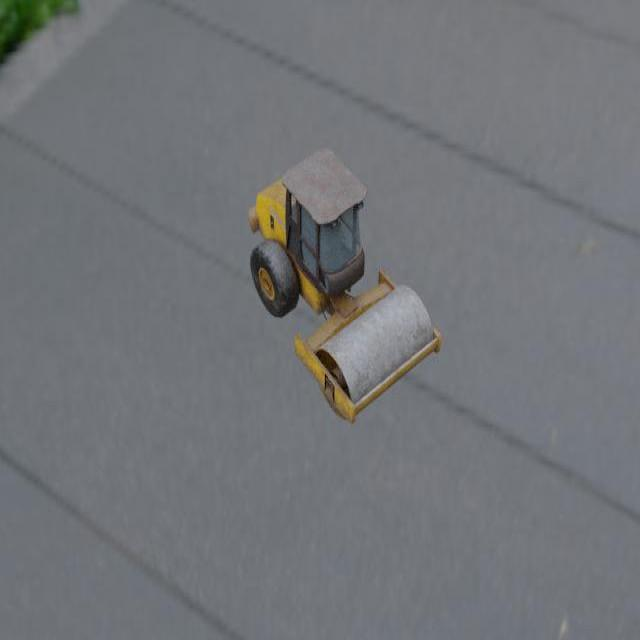Roller: (248, 147, 441, 424)
